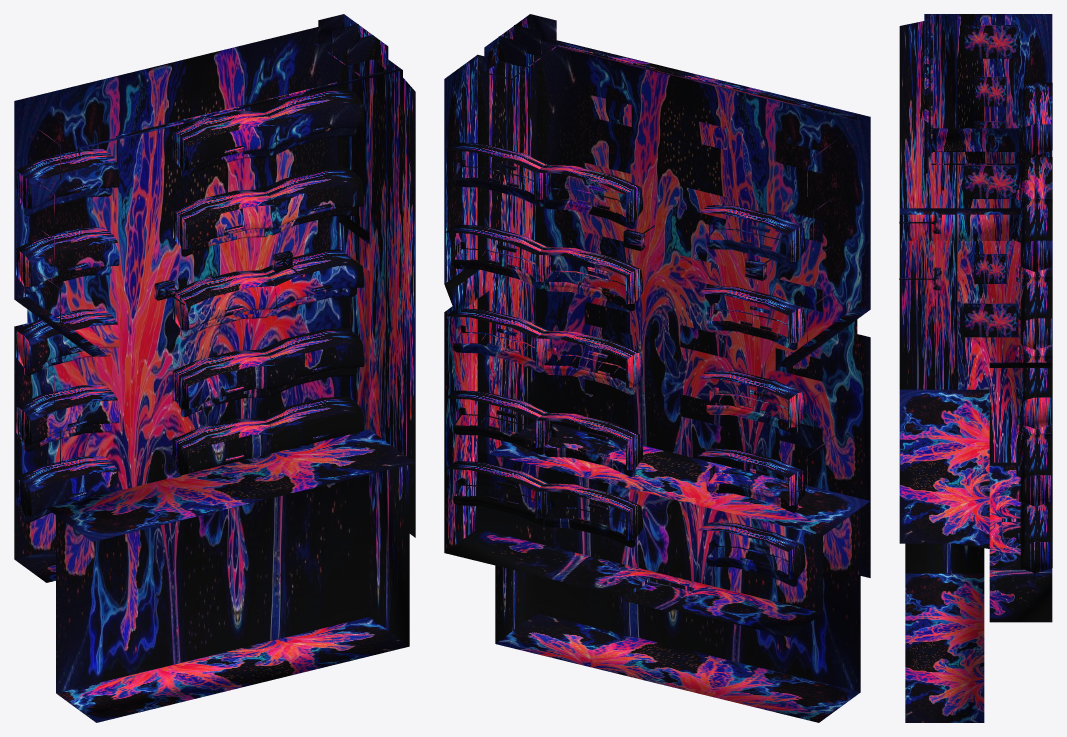
Rendered from nasa_jsc-mission-control-room.glb.
3 views of the same model, side by side, from view 1: azimuth 30°, elevation 25°; view 2: azimuth 150°, elevation 25°; view 3: azimuth 270°, elevation 25° (orthographic). The views are drawn at different scales.
Parts seen in each view (by area): view 1: A; view 2: A; view 3: A.
Boxes of the visible parts, bbox=[...] form: A: bbox=[14, 14, 415, 722]; A: bbox=[444, 14, 870, 722]; A: bbox=[899, 14, 1052, 722].
Size of the model in its own units: 1.18 by 2 by 0.4795.
Materials: 45 (45 with a texture image).
